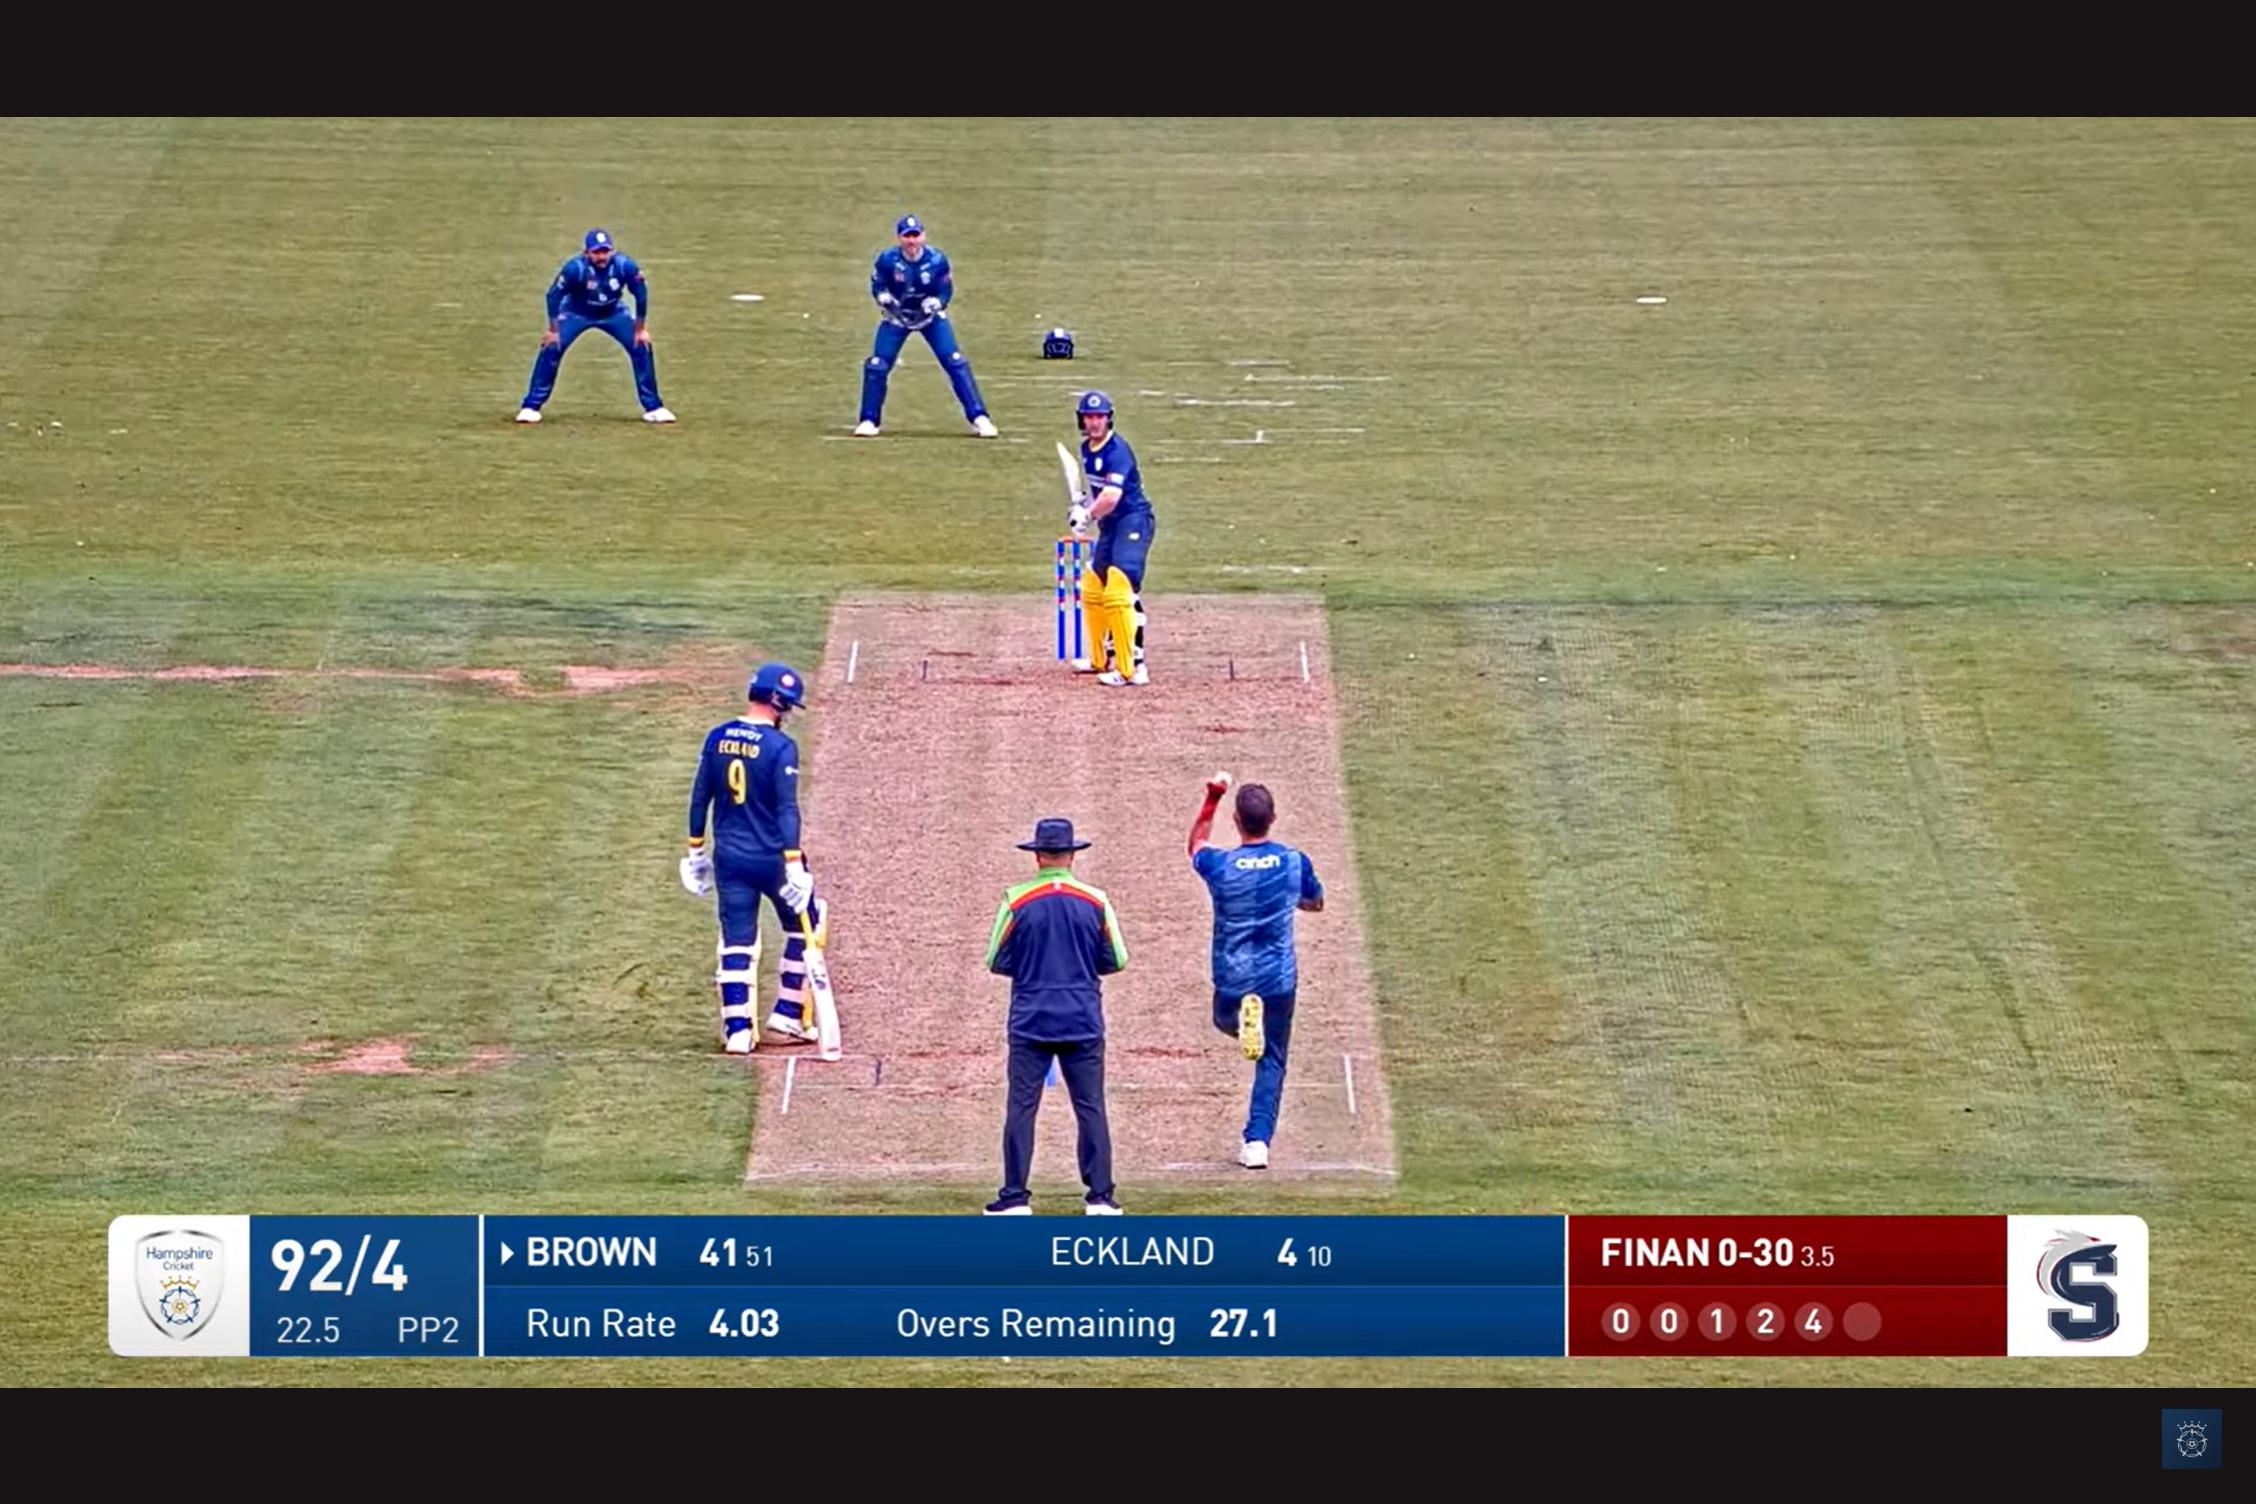batsman: (1026, 378, 1200, 698)
bowler running in: (1167, 744, 1356, 1173)
non striker: (631, 638, 881, 1063)
umpire: (970, 807, 1141, 1209)
wicket keeper: (796, 201, 1004, 458)
